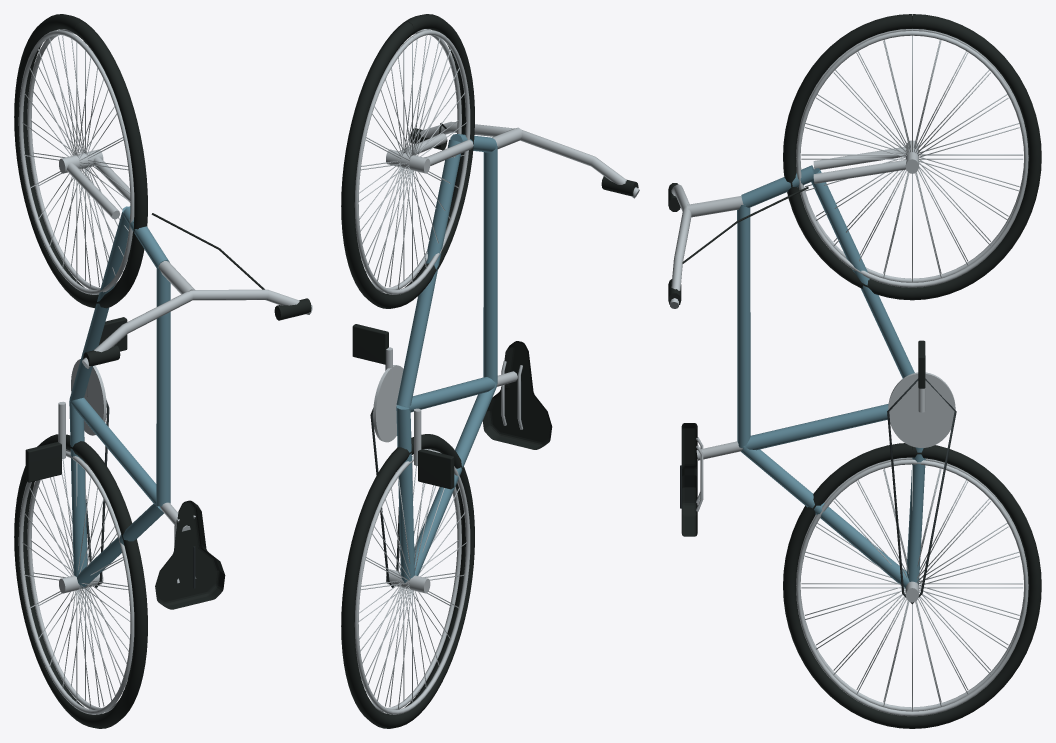
The model's file is stored-commuter-bicycle.glb.
The picture shows the model from 3 angles, left to right: view 1: azimuth 30°, elevation 25°; view 2: azimuth 150°, elevation 25°; view 3: azimuth 270°, elevation 25°; orthographic projection. The views are drawn at different scales.
Parts seen in each view (by area): view 1: stored-commuter-bicycle authored assembly; view 2: stored-commuter-bicycle authored assembly; view 3: stored-commuter-bicycle authored assembly.
Part boxes in pixels (box(x1,y1,x2,y2)): stored-commuter-bicycle authored assembly: box(14, 14, 312, 728); stored-commuter-bicycle authored assembly: box(341, 14, 639, 728); stored-commuter-bicycle authored assembly: box(668, 14, 1041, 728).
Bounding box in the file's own units: 0.65 × 1.9 × 0.9.
